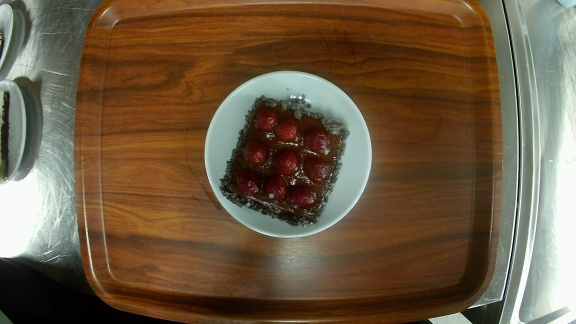cileklipasta: (204, 71, 373, 235)
